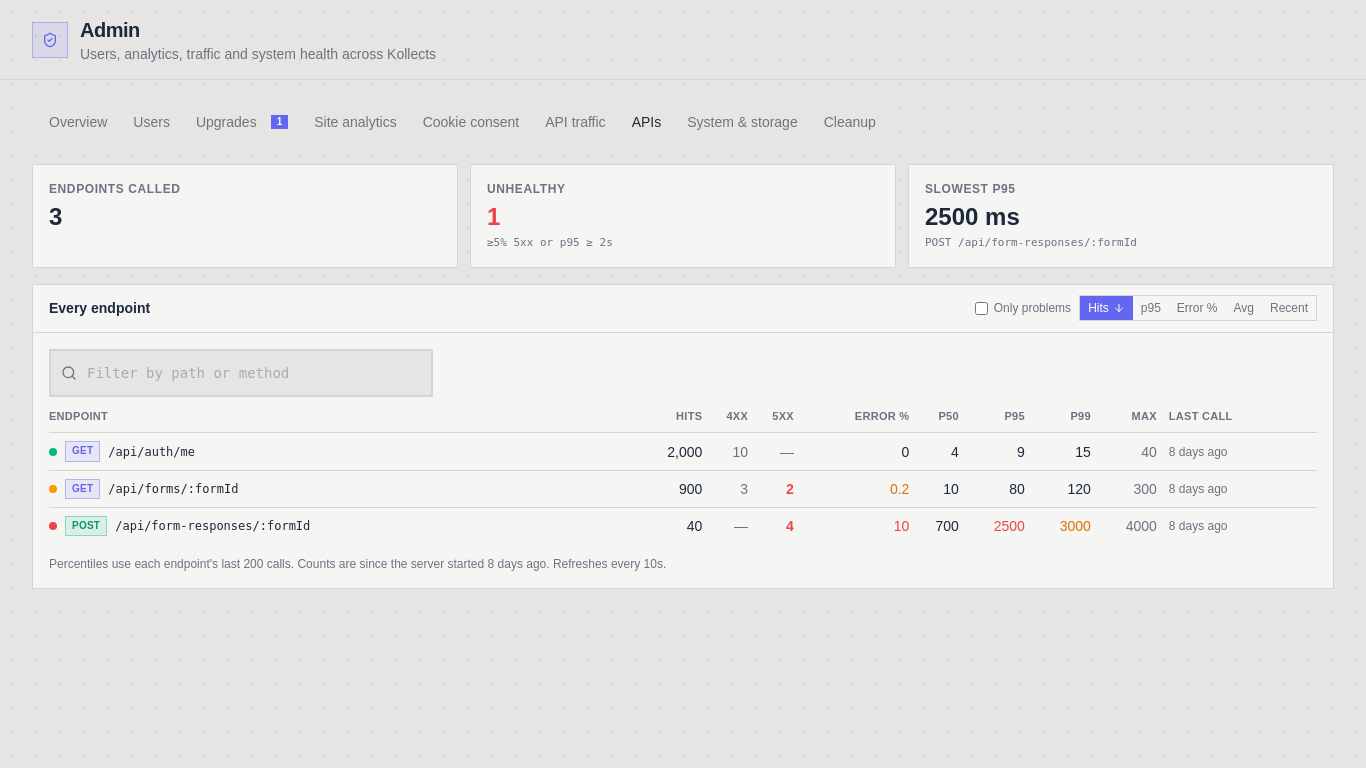
Admin dashboard › APIs tab lists every endpoint, flags unhealthy ones, filters and shows the last error
Expected: the text "/api/form-responses/:formId" is shown, [115,518,310,534]
Expected: the text "/api/auth/me" is shown, [108,444,195,460]
Step 1. Click the checkbox labelled "Only problems" → (981, 308), box [975,302,988,315]
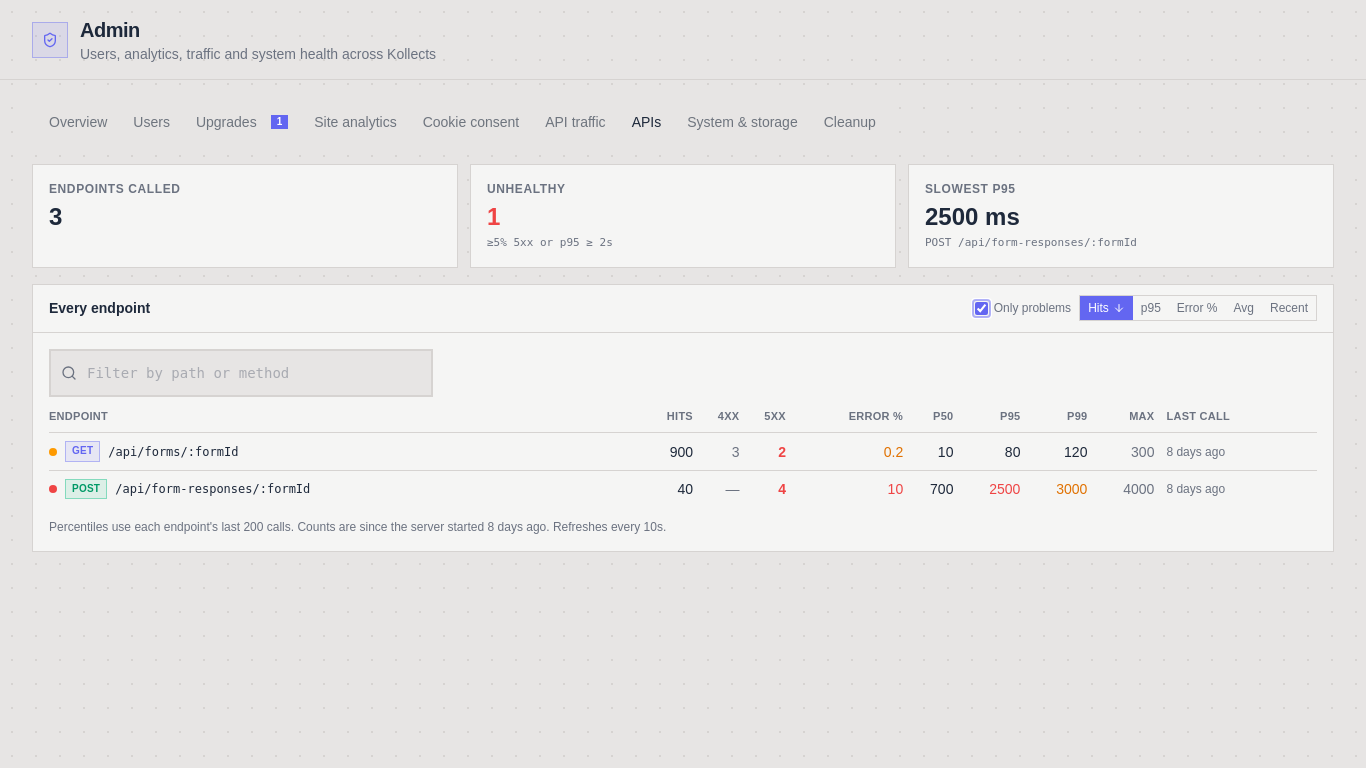
Now the text "/api/auth/me" is gone
Step 2. Click the text "/api/form-responses/:formId" → (213, 489), box [115,481,310,497]
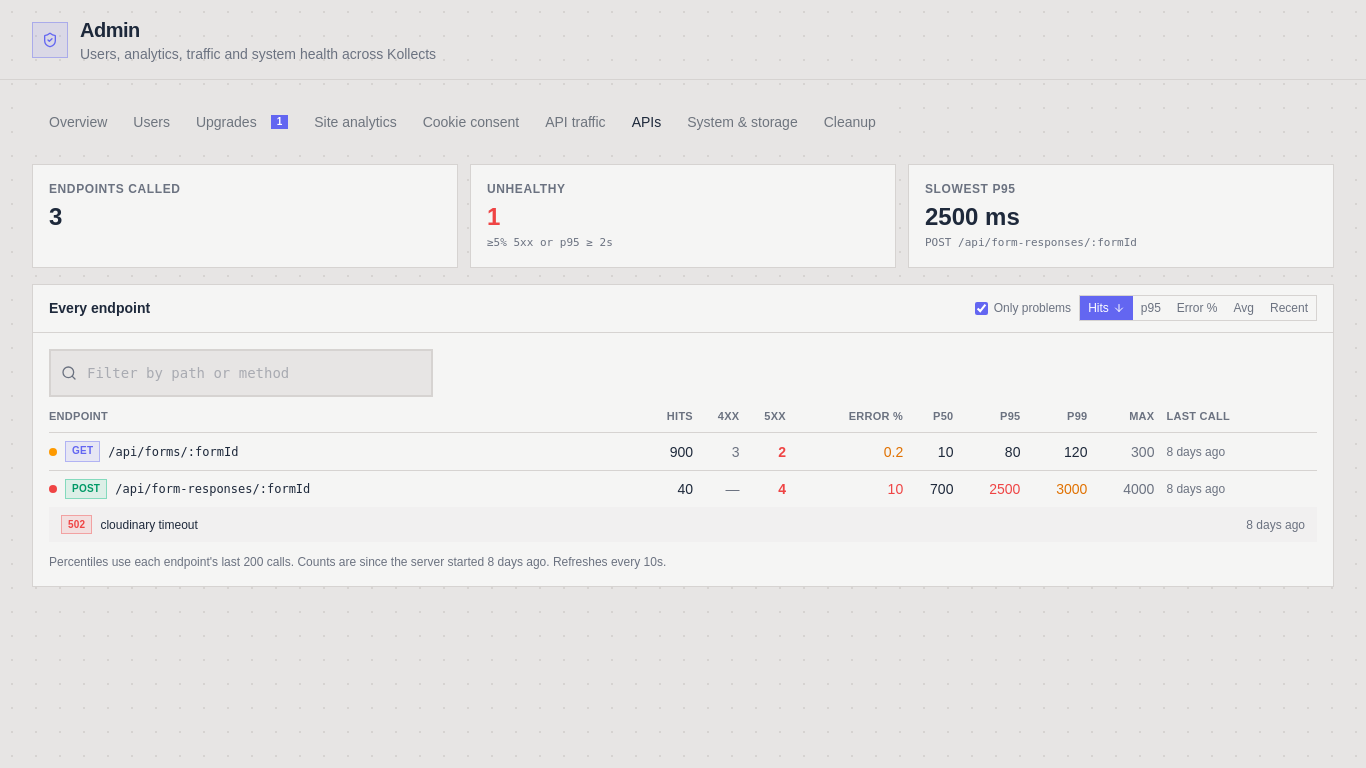
Now the text "cloudinary timeout" is shown, box [100,517,198,533]
Step 3. Click the checkbox labelled "Only problems" → (981, 308), box [975,302,988,315]
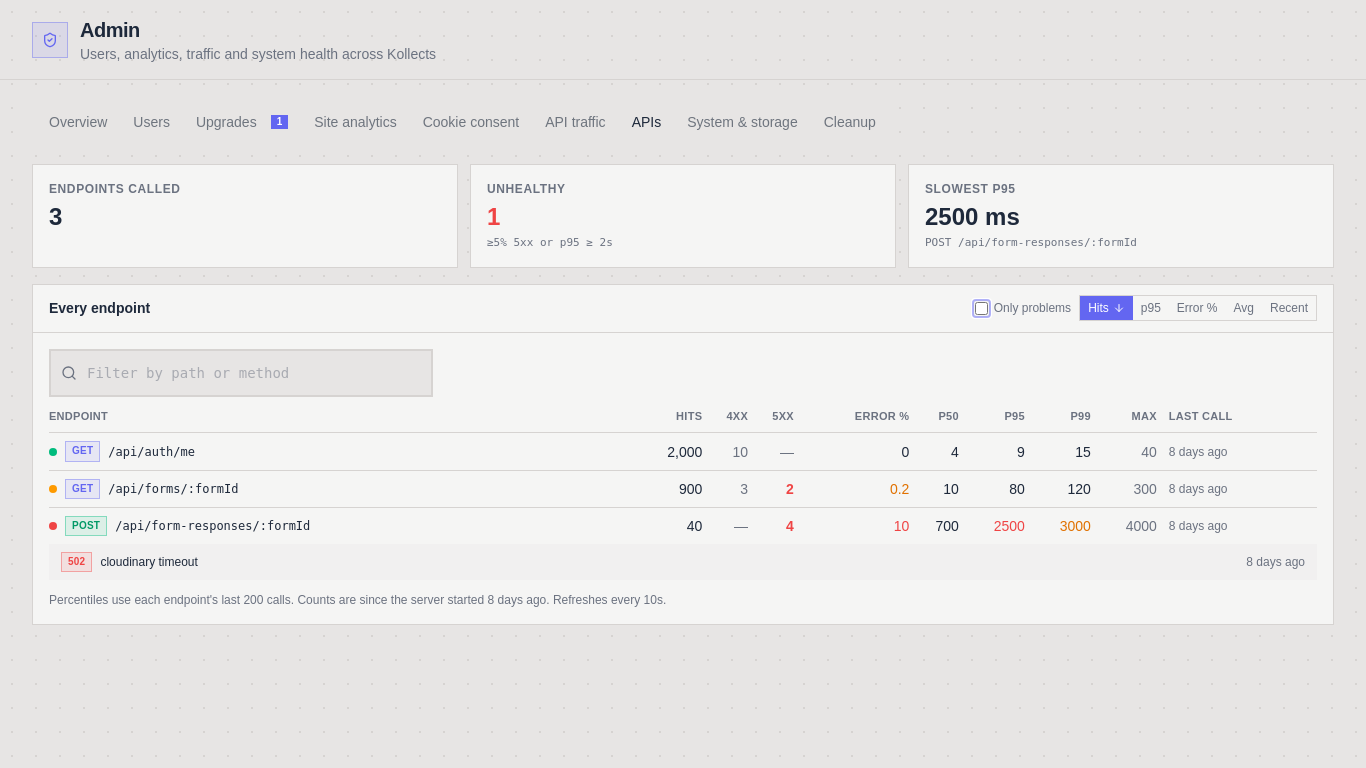
Step 4. Type "auth" into the field named "Filter endpoints" → (241, 373), box [49,349,433,397]
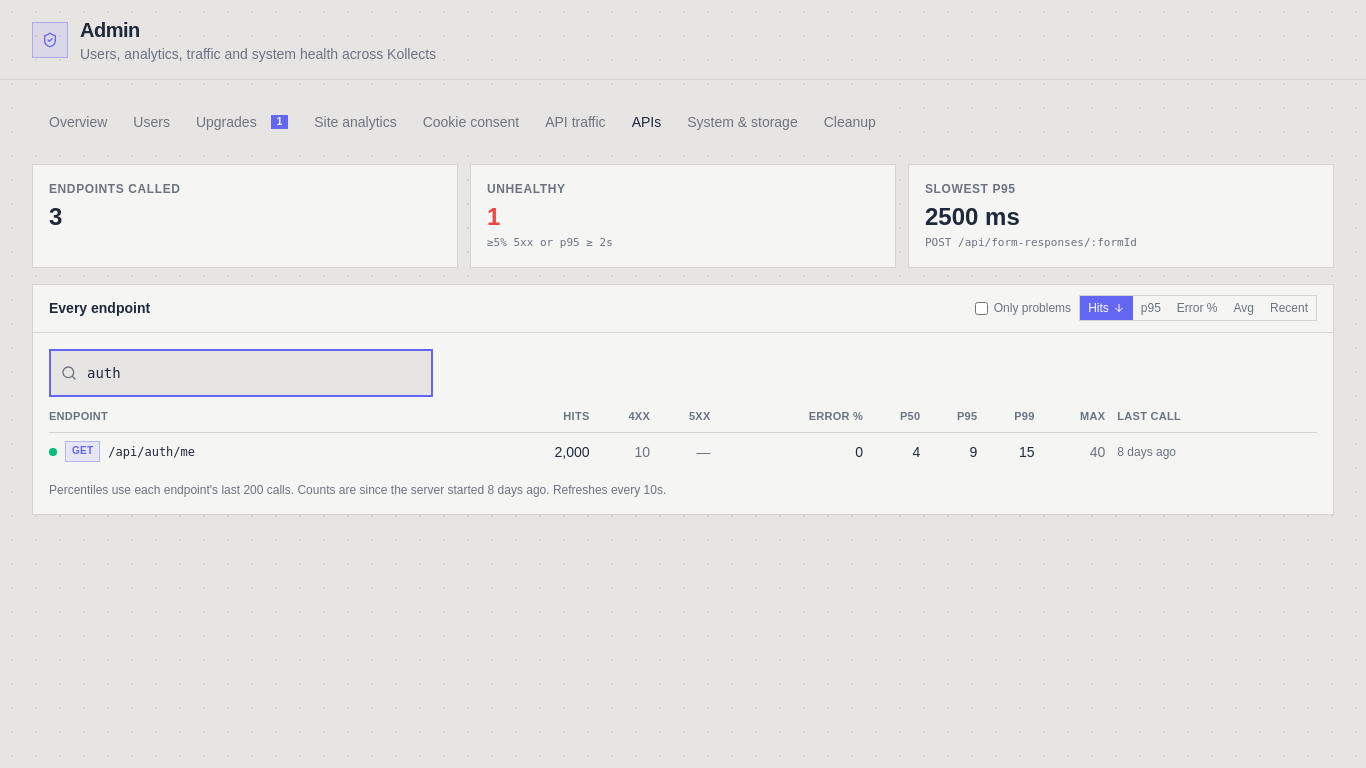
Now the text "/api/auth/me" is shown, box [108,444,195,460]
Now the text "/api/forms/:formId" is gone
